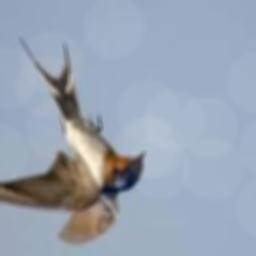Swallow: (0, 35, 144, 245)
